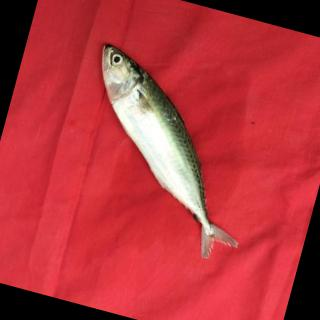Ikan: (50, 29, 287, 273)
